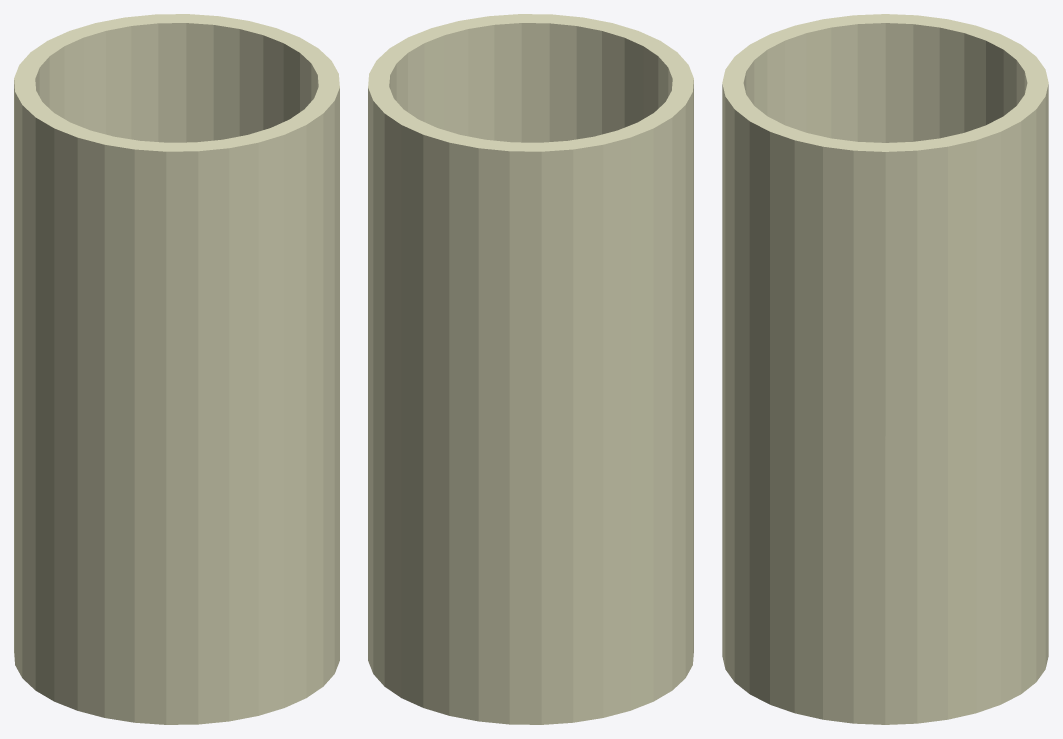
Rendered from copo 2.fbx.
3 views of the same model, side by side, from view 1: azimuth 30°, elevation 25°; view 2: azimuth 150°, elevation 25°; view 3: azimuth 270°, elevation 25° (orthographic).
Visible parts, largest first — view 1: Cup; view 2: Cup; view 3: Cup.
Boxes of the visible parts, x1=… form: Cup: x1=14, y1=14, x2=339, y2=724; Cup: x1=368, y1=14, x2=693, y2=724; Cup: x1=722, y1=14, x2=1048, y2=724.
Size of the model in its own units: 5 by 9.68 by 5.
